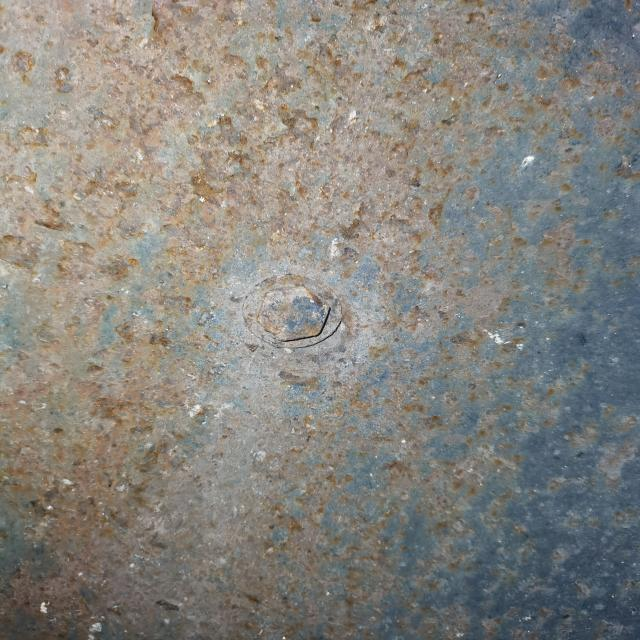bolt head: (253, 282, 332, 344)
